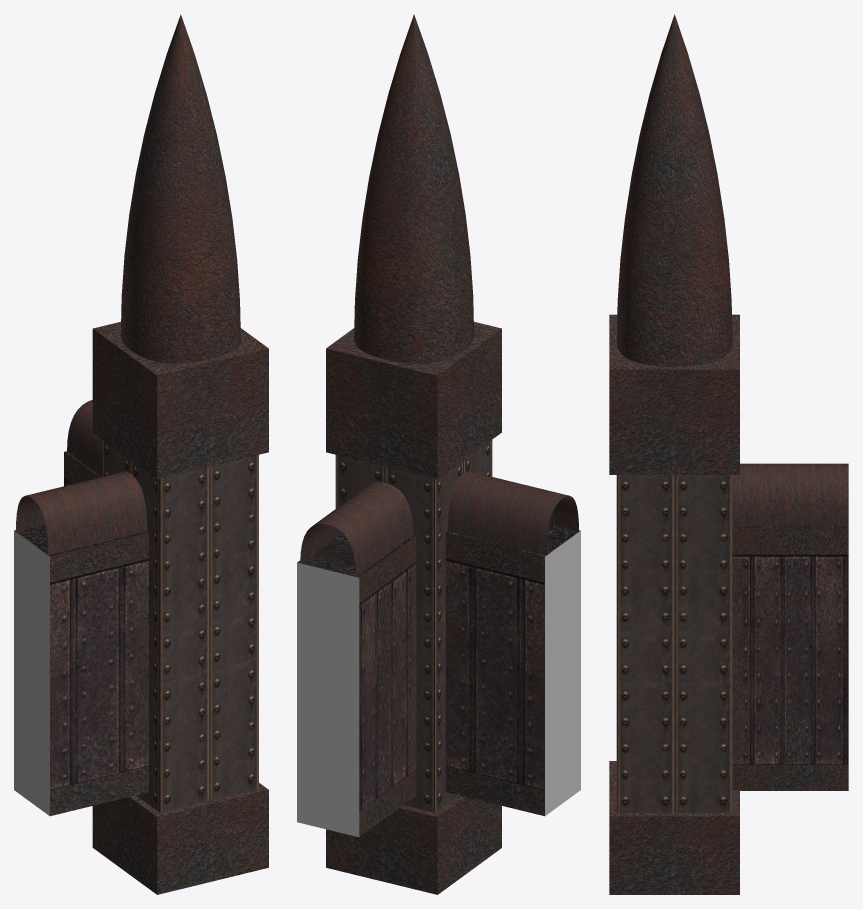
The model's file is 14gate-corner-90.obj.
3 views of the same model, side by side, from view 1: azimuth 30°, elevation 25°; view 2: azimuth 150°, elevation 25°; view 3: azimuth 270°, elevation 25° (orthographic).
Visible parts, largest first — view 1: entity0_brush6, entity0_patch4, entity0_brush10, entity0_brush5, entity0_brush7, entity0_patch8, entity0_brush9, entity0_brush11, entity0_patch3, entity0_brush1; view 2: entity0_patch4, entity0_brush10, entity0_brush2, entity0_brush5, entity0_brush6, entity0_brush7, entity0_patch8, entity0_patch3, entity0_brush1, entity0_brush9, entity0_brush11, entity0_brush0; view 3: entity0_brush6, entity0_patch4, entity0_brush2, entity0_brush5, entity0_brush7, entity0_patch3, entity0_brush1, entity0_brush0.
Boxes of the visible parts, x1,y1,x2,y2 form: entity0_brush6: (102,440,258,812); entity0_patch4: (120,14,240,363); entity0_brush10: (14,556,148,790); entity0_brush5: (92,321,268,479); entity0_brush7: (92,783,268,894); entity0_patch8: (16,471,147,555); entity0_brush9: (14,524,148,582); entity0_brush11: (14,764,148,816); entity0_patch3: (67,400,102,476); entity0_brush1: (64,451,101,484); entity0_patch4: (354,14,474,363); entity0_brush10: (445,556,580,790); entity0_brush2: (297,562,416,811); entity0_brush5: (326,321,501,479); entity0_brush6: (335,440,492,812); entity0_brush7: (326,795,501,894); entity0_patch8: (447,471,578,555); entity0_patch3: (300,482,413,576); entity0_brush1: (297,532,416,603); entity0_brush9: (445,524,580,582); entity0_brush11: (445,764,580,816); entity0_brush0: (297,770,416,837); entity0_brush6: (616,475,732,812); entity0_patch4: (616,14,732,366); entity0_brush2: (732,554,848,764); entity0_brush5: (609,314,739,474); entity0_brush7: (609,761,739,894); entity0_patch3: (732,463,848,526); entity0_brush1: (732,526,848,554); entity0_brush0: (732,764,848,790).
Bounding box in the file's own units: 132 × 520 × 132.
